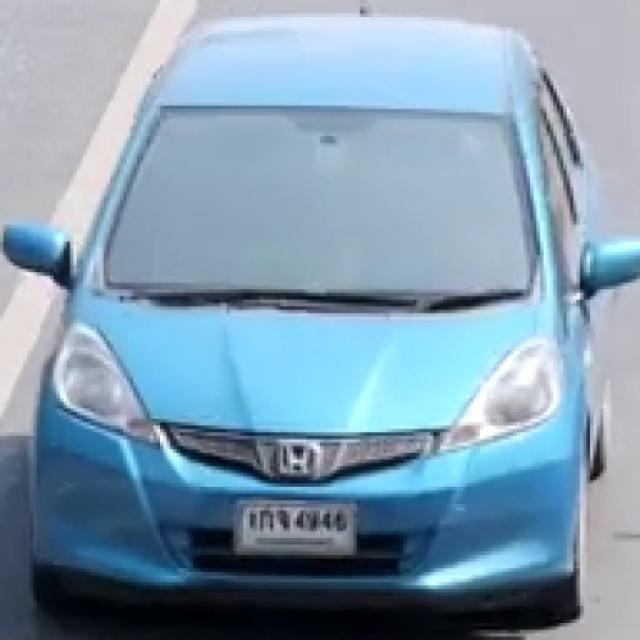plate: (236, 501, 356, 557)
